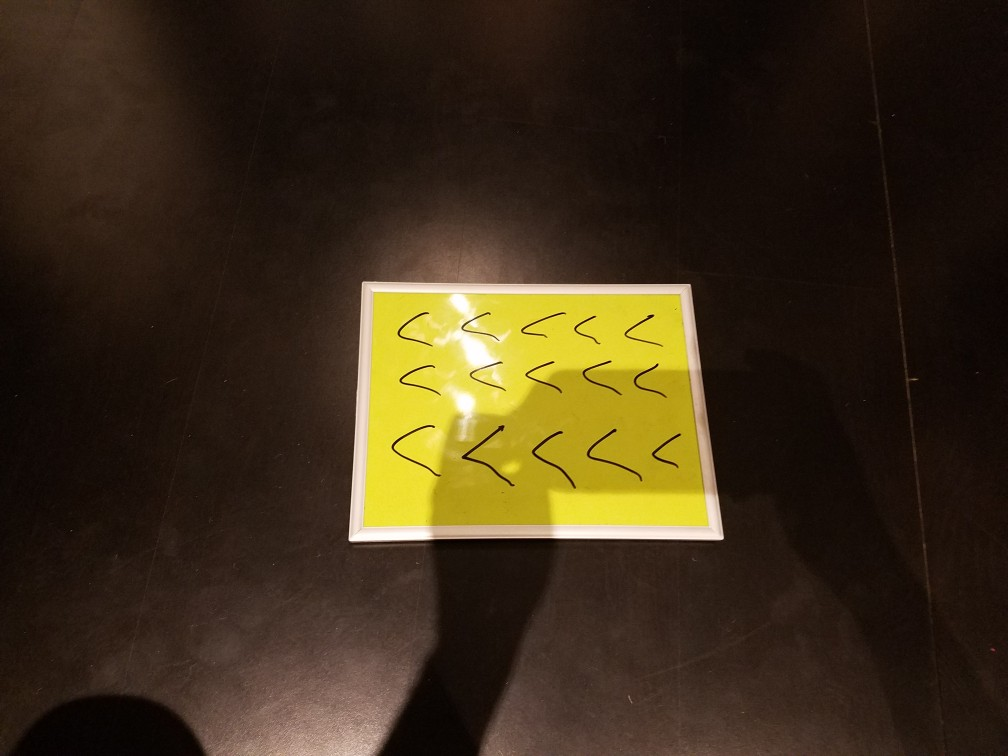<: (457, 417, 521, 495), (385, 412, 444, 485), (582, 417, 644, 486), (528, 423, 580, 498), (577, 353, 634, 410), (515, 351, 565, 410), (393, 359, 451, 409), (629, 354, 676, 411), (646, 424, 694, 477), (389, 303, 436, 357), (623, 307, 670, 358), (512, 305, 569, 346), (466, 357, 513, 405), (457, 307, 504, 351), (568, 306, 611, 351)
